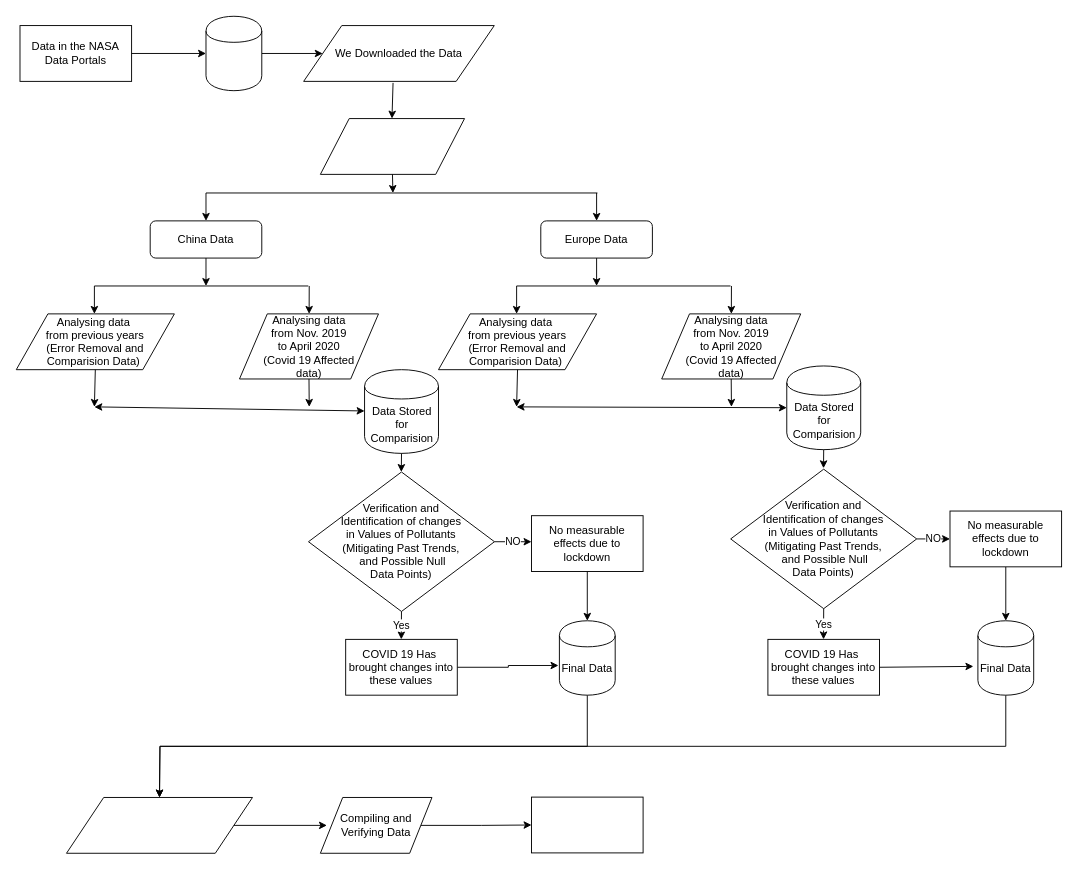
Some shapes in this 1078 by 870 pixel diagram are drawn without their labels. The shapes that lost their labels are listed below. From the top down, each one's centre as x and y in pixels, then its label:
At point 233,53: "Data Access Portals".
At point 392,146: "Data Analysis using R and Python".
At point 159,825: "Analysis of the Final Data and Identifying whether the results are similar".
At point 587,824: "Final Results Obtained".
